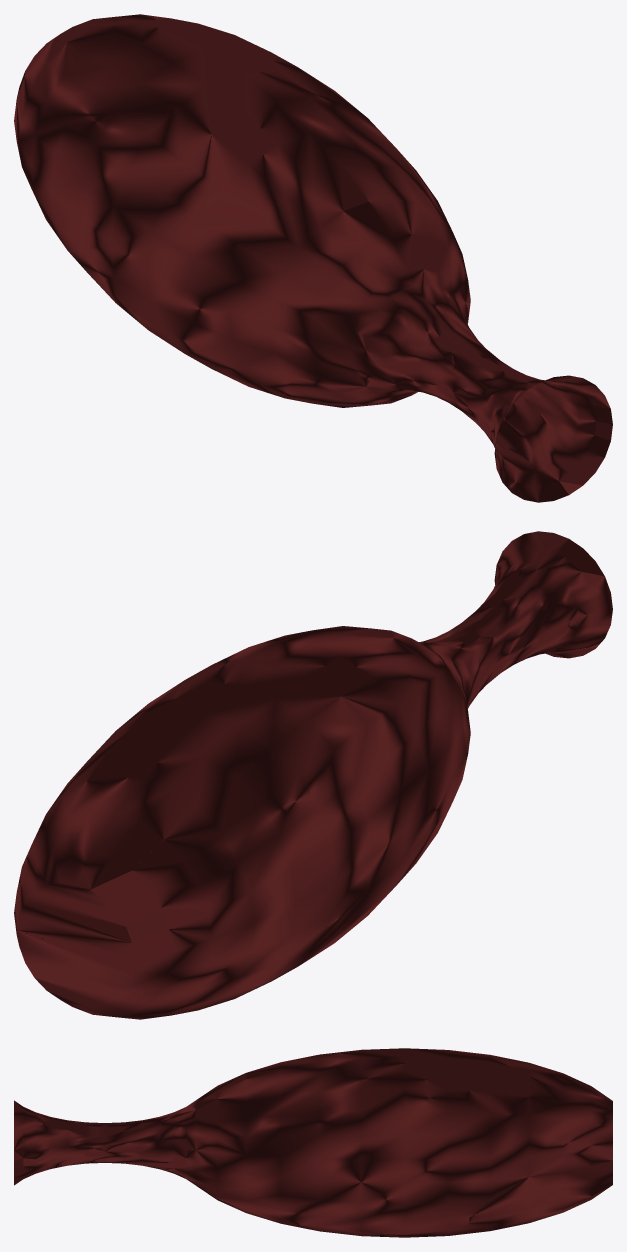
The model's file is model_align.obj.
3 renders of one model, top to bottom at view 1: azimuth 30°, elevation 25°; view 2: azimuth 150°, elevation 25°; view 3: azimuth 270°, elevation 25°, orthographic. The views are drawn at different scales.
Bounding box in the file's own units: 0.0472 × 0.0472 × 0.1486.
